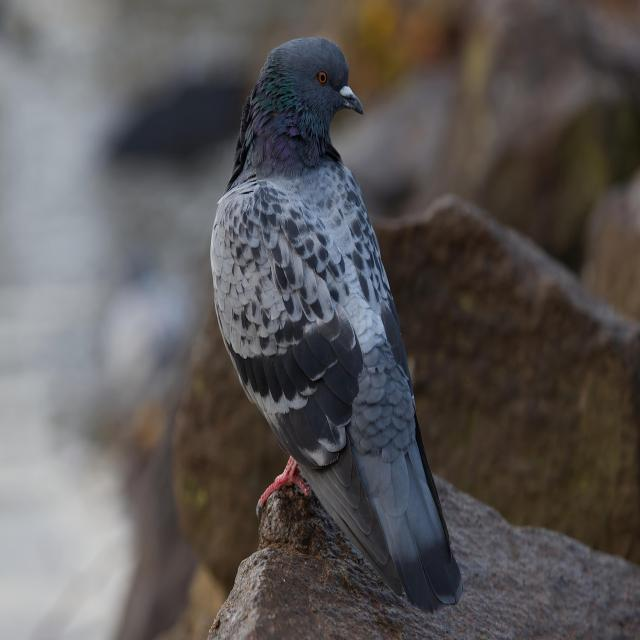pegion: (148, 20, 524, 554)
